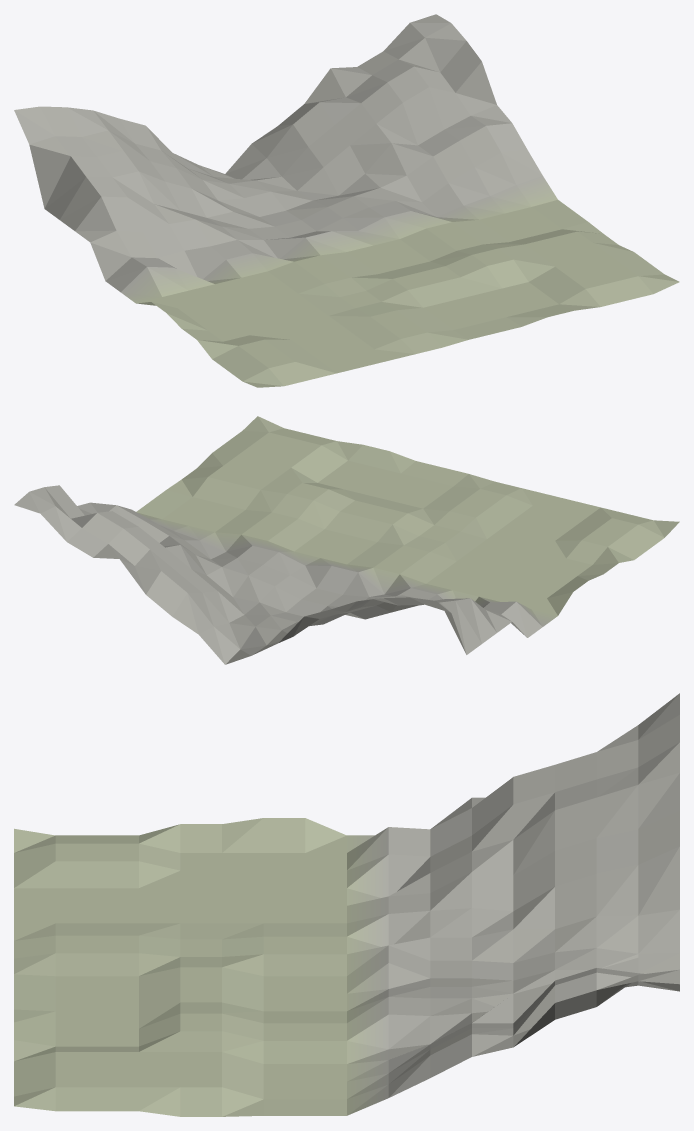
The picture shows the model from 3 angles, top to bottom: view 1: azimuth 30°, elevation 25°; view 2: azimuth 150°, elevation 25°; view 3: azimuth 270°, elevation 25°; orthographic projection. The views are drawn at different scales.
Size of the model in its own units: 32 by 8.37 by 32.
